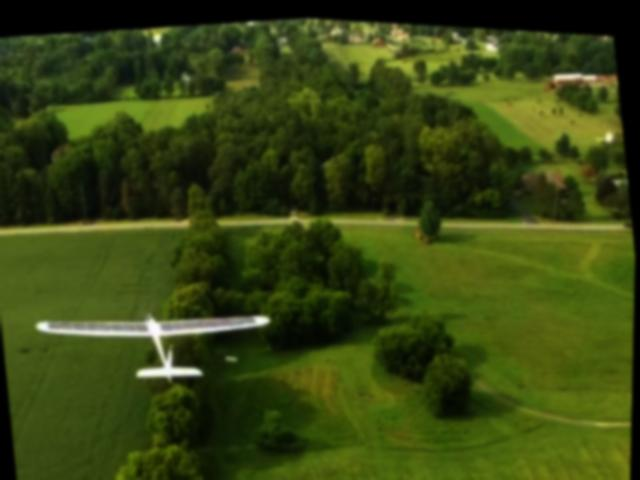uav: (28, 279, 288, 408)
